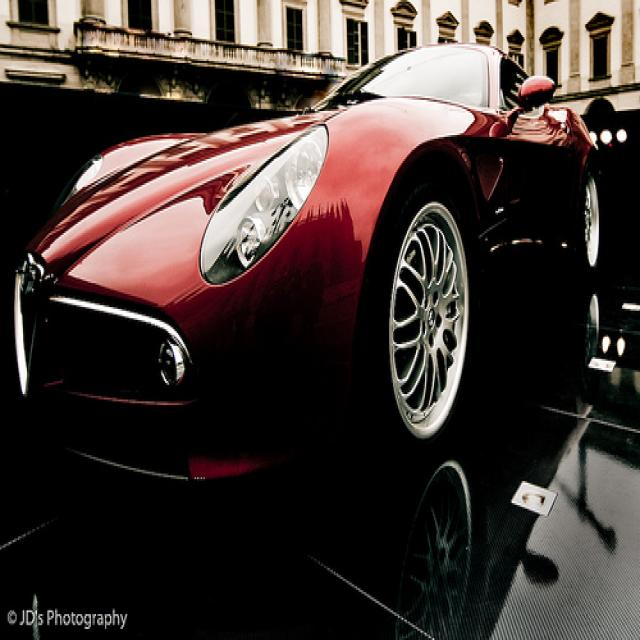Car: (13, 36, 604, 495)
